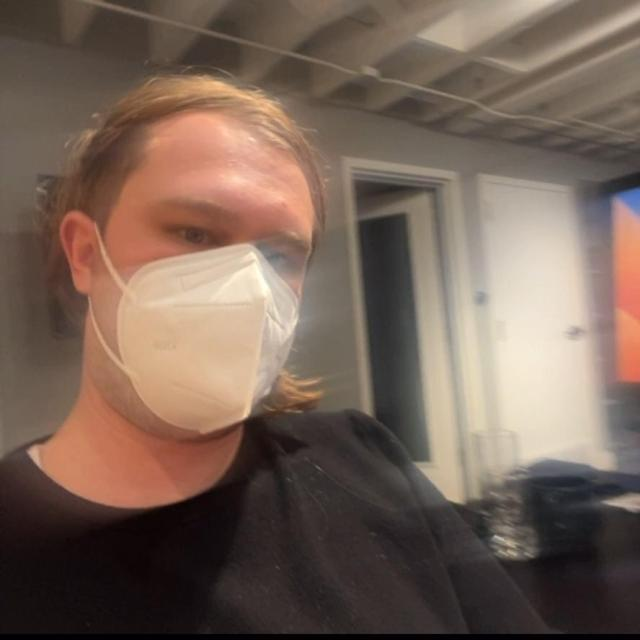no-helmet: (9, 48, 332, 505)
